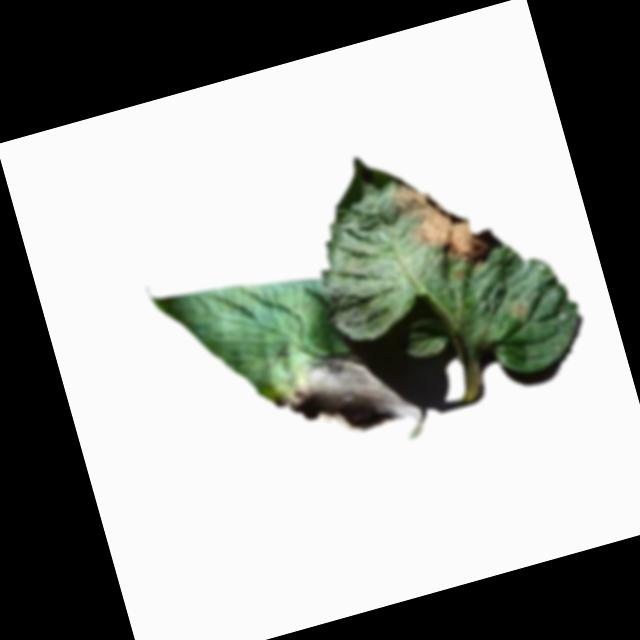Late_blight: (265, 336, 422, 451), (384, 157, 501, 284), (508, 296, 532, 322)
